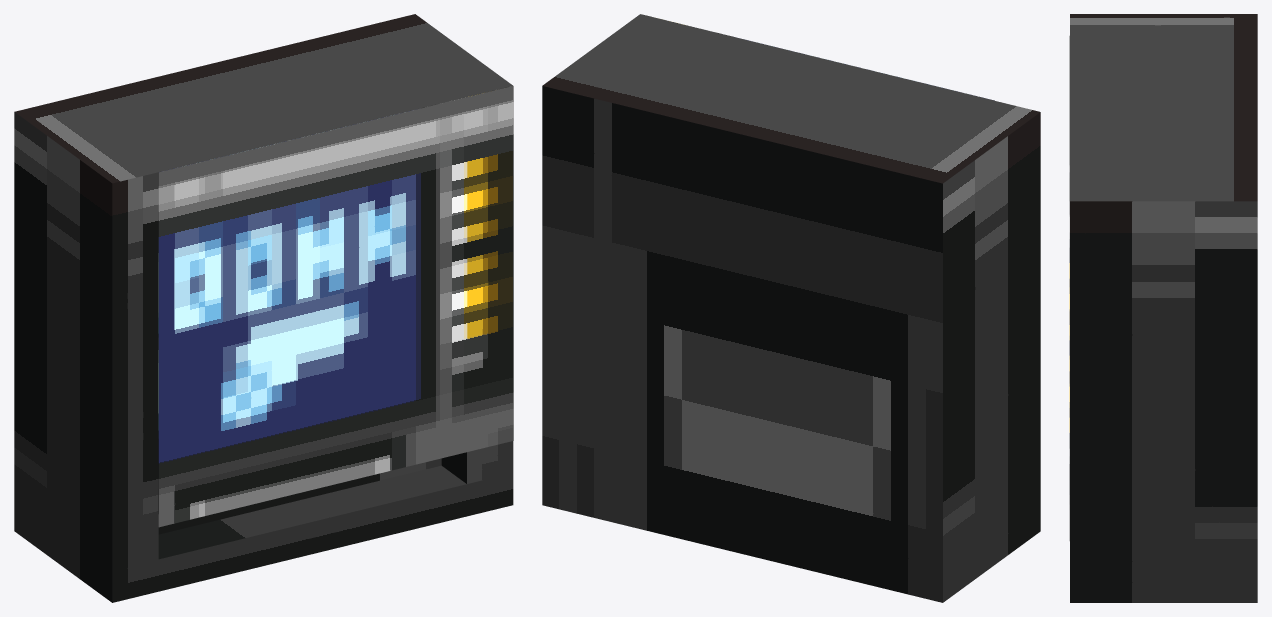
Rendered from vending_nt_donk.glb.
3 views of the same model, side by side, from view 1: azimuth 30°, elevation 25°; view 2: azimuth 150°, elevation 25°; view 3: azimuth 270°, elevation 25° (orthographic). The views are drawn at different scales.
Parts seen in each view (by area): view 1: vending_nt_donk, vending_nt_donk_Cabinet, vending_nt_donk_Delivery_Flap; view 2: vending_nt_donk_Cabinet; view 3: vending_nt_donk_Cabinet, vending_nt_donk.
Part boxes in pixels (x1,y1,x2,y2): vending_nt_donk: (158,86,513,527); vending_nt_donk_Cabinet: (14,14,513,602); vending_nt_donk_Delivery_Flap: (158,458,441,534); vending_nt_donk_Cabinet: (542,14,1040,602); vending_nt_donk_Cabinet: (1070,14,1257,602); vending_nt_donk: (1069,36,1069,540).
Size of the model in its own units: 1.56 by 1.56 by 0.662.
3 materials, 3 textured.
